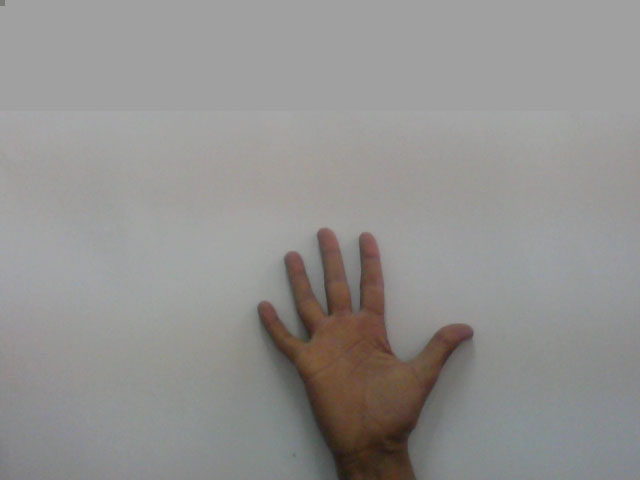hand: (245, 217, 480, 439)
